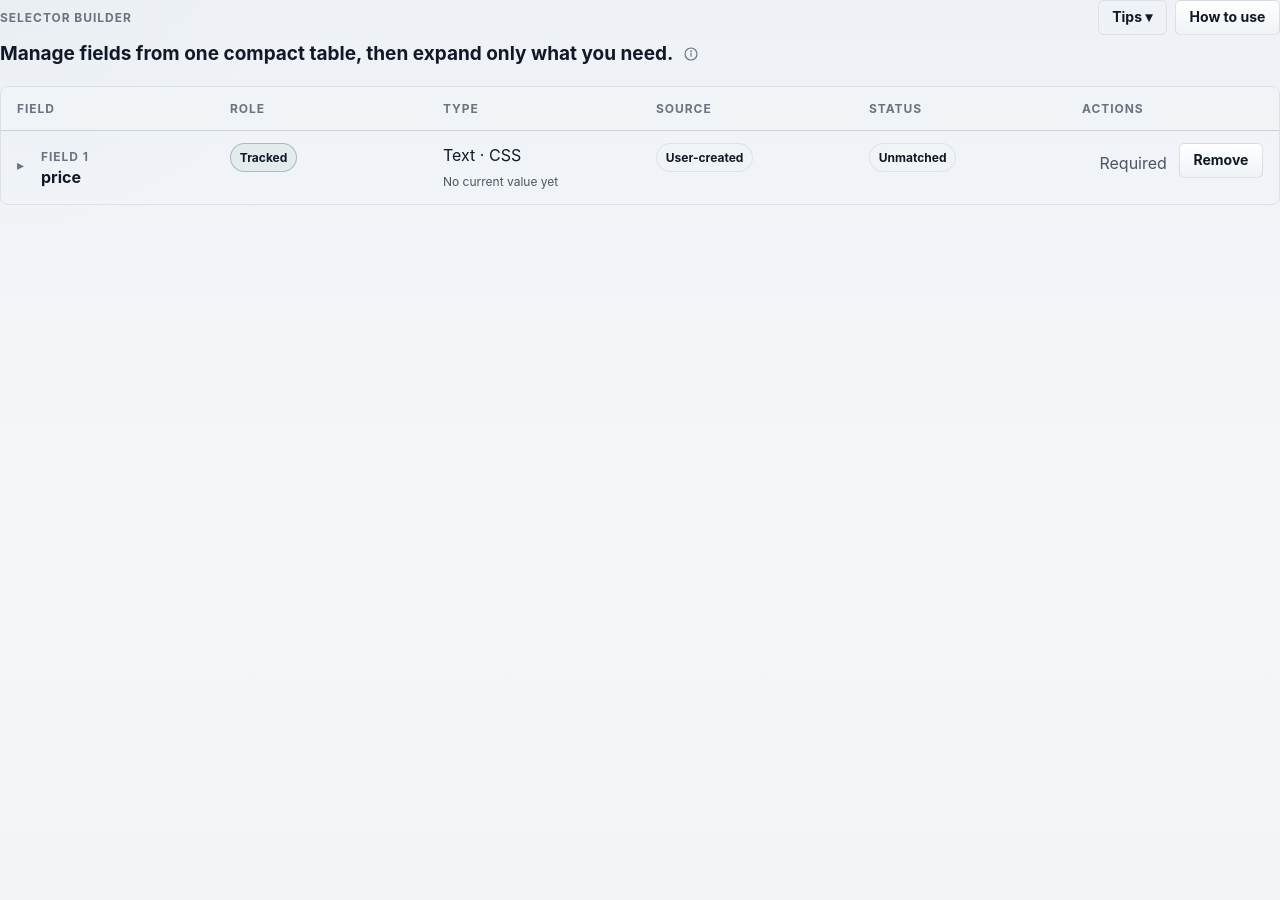
Test: SelectorBuilder › opens a help popup with selector guidance
The image size is (1280, 900).
Click the button "How to use" at (1228, 17), box [1175,0,1279,35]
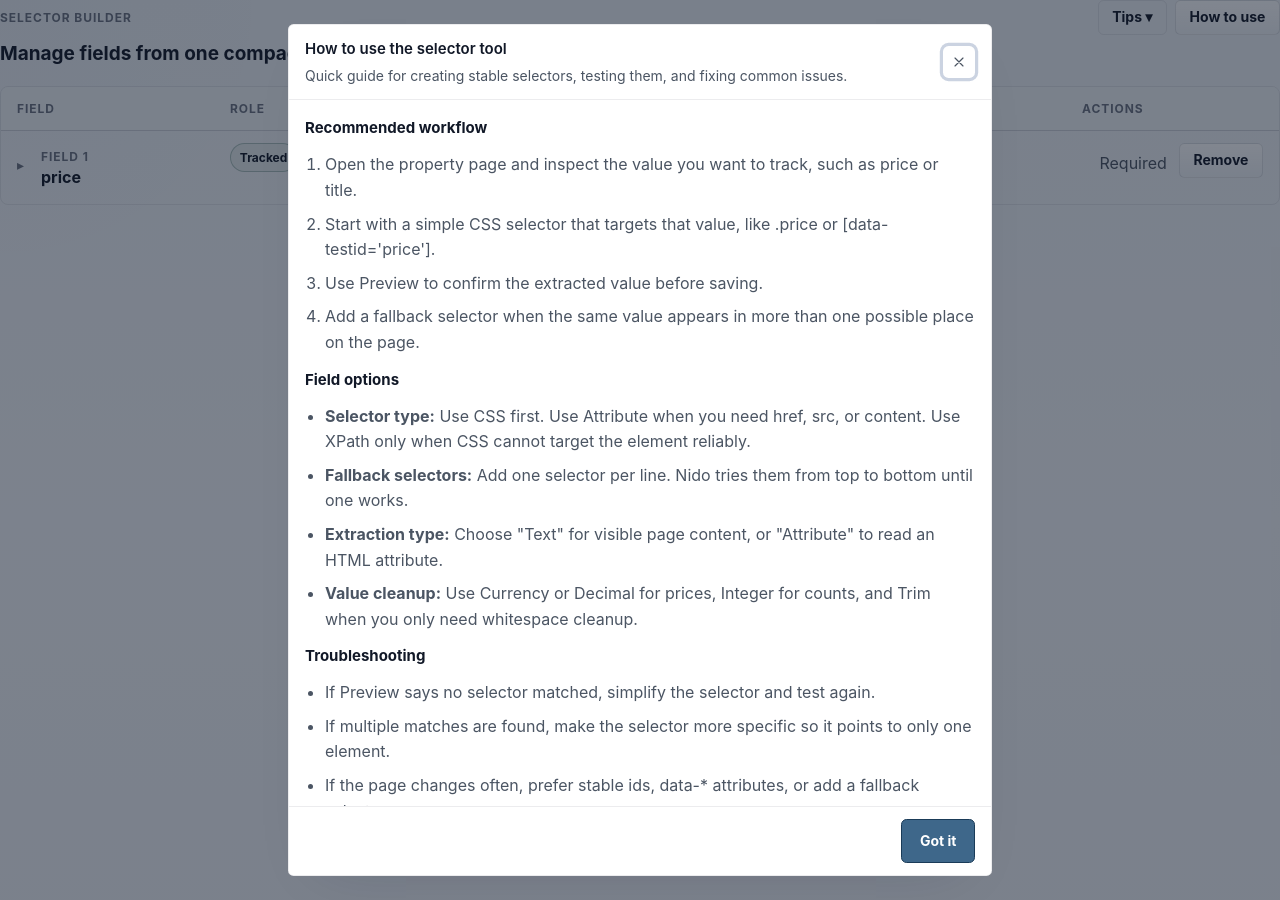
Result: the dialog "How to use the selector tool" is shown at [288,24,992,876]
Result: the heading "Recommended workflow" is shown at [305,118,487,137]
Result: the list item "Start with a simple CSS selector" is shown at [325,214,888,259]
